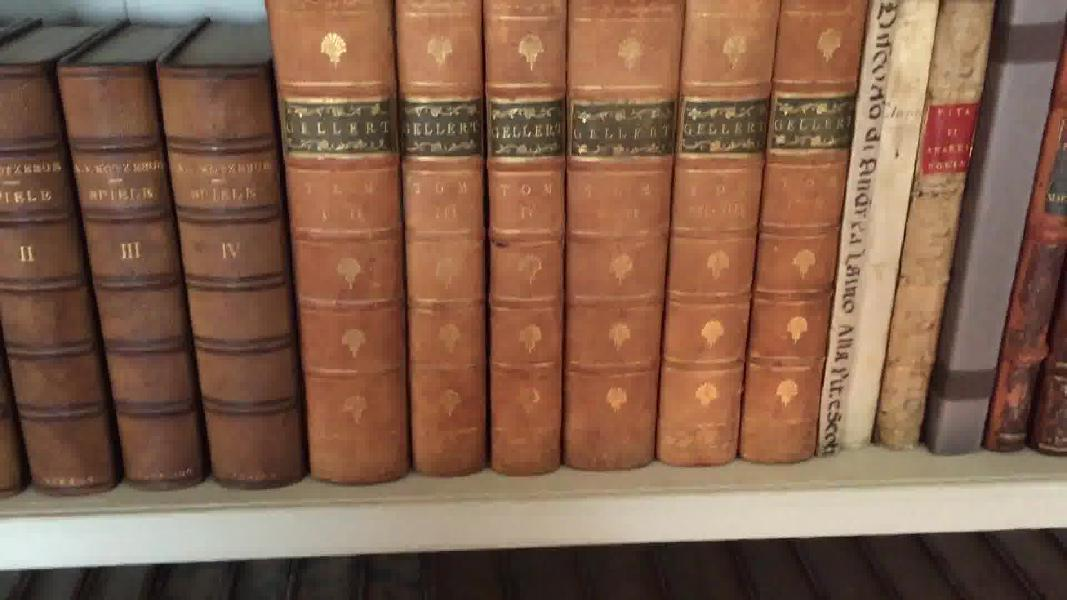Aa6-18_23: (261, 4, 855, 475)
